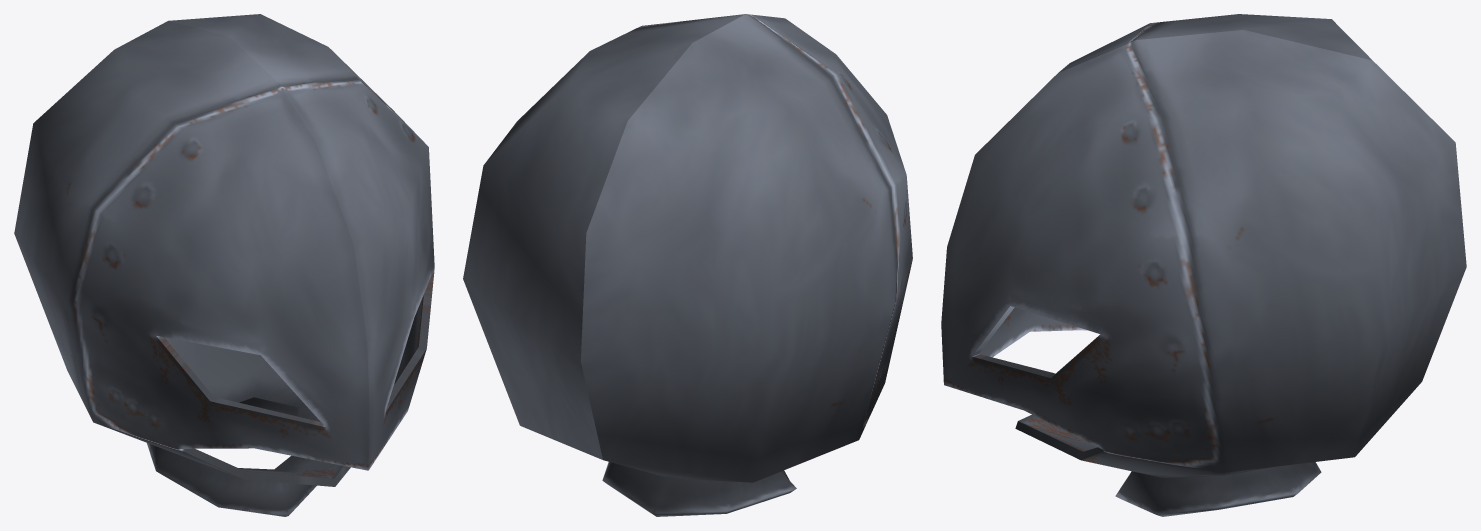
The model's file is accessory_prisoner.fbx.
3 views of the same model, side by side, from view 1: azimuth 30°, elevation 25°; view 2: azimuth 150°, elevation 25°; view 3: azimuth 270°, elevation 25° (orthographic). The views are drawn at different scales.
Parts seen in each view (by area): view 1: Griffith; view 2: Griffith; view 3: Griffith.
Boxes of the visible parts, x1,y1,x2,y2 form: Griffith: (14,14,434,516); Griffith: (463,14,912,516); Griffith: (941,14,1466,516).
Size of the model in its own units: 24.86 by 29.41 by 29.79.
